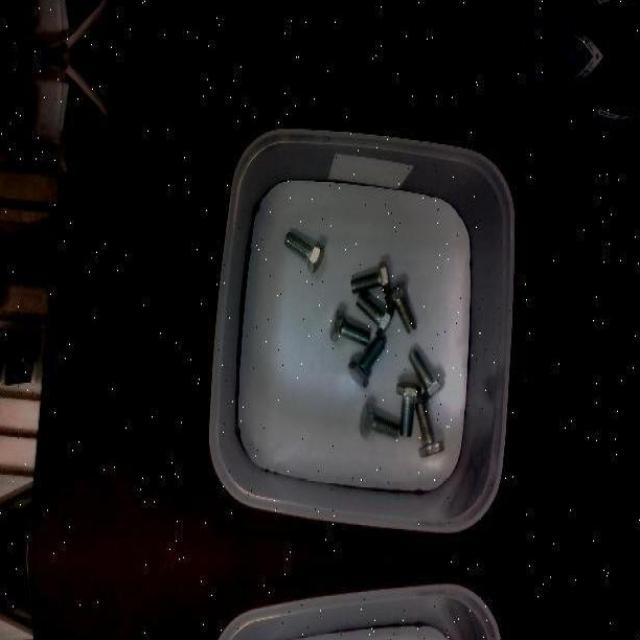screw: (407, 348, 444, 401), (347, 337, 385, 387), (356, 292, 394, 338), (384, 281, 417, 333), (415, 401, 446, 456), (284, 231, 323, 273), (330, 309, 370, 346), (359, 401, 398, 438), (396, 382, 420, 438), (349, 260, 389, 292)
